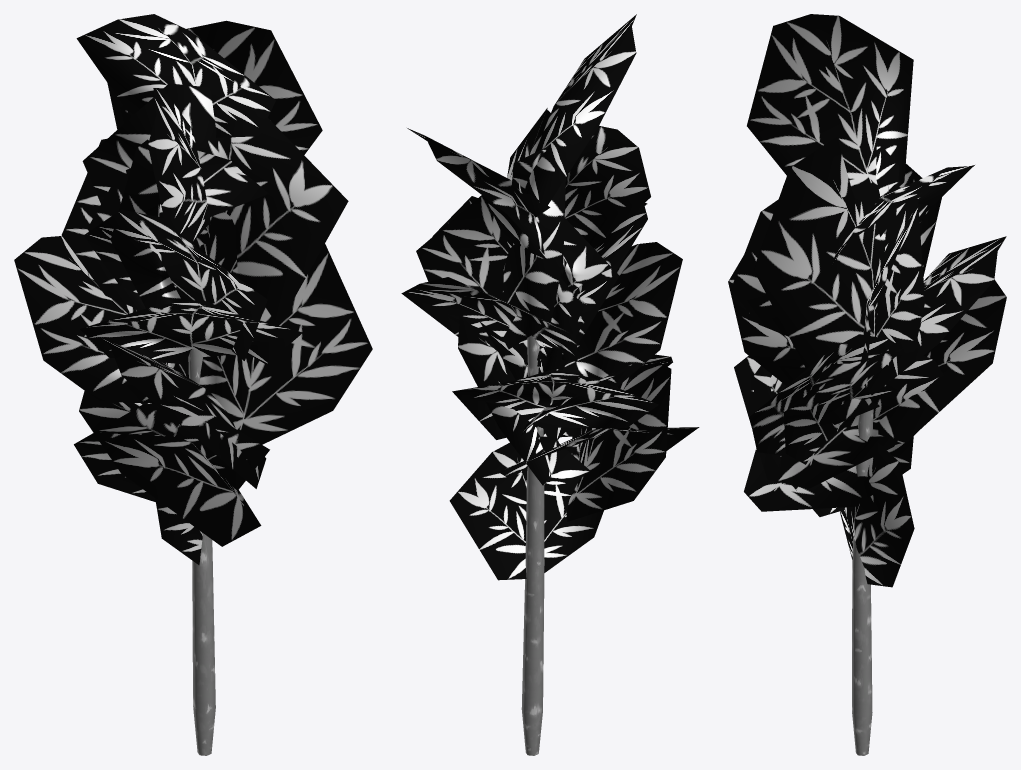
Rendered from P_BambooSapling1.obj.
3 views of the same model, side by side, from view 1: azimuth 30°, elevation 25°; view 2: azimuth 150°, elevation 25°; view 3: azimuth 270°, elevation 25° (orthographic). The views are drawn at different scales.
Size of the model in its own units: 2.59 by 7.58 by 2.72.
